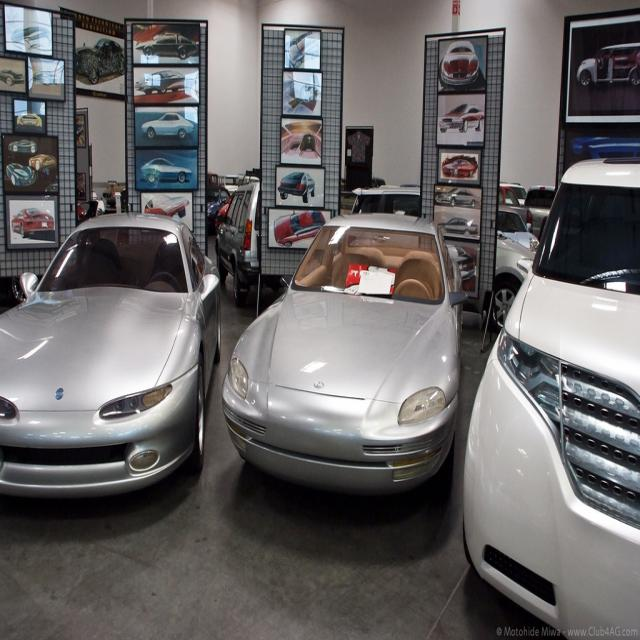car: (221, 209, 466, 493), (434, 185, 478, 209)
